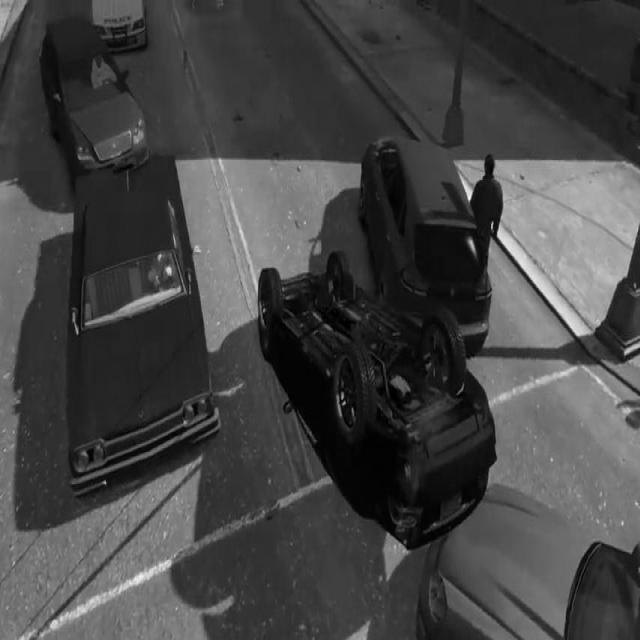accident: (256, 120, 497, 546)
vehicle: (70, 166, 226, 494), (362, 125, 497, 349), (429, 521, 640, 640), (41, 16, 151, 170), (88, 0, 157, 49)
